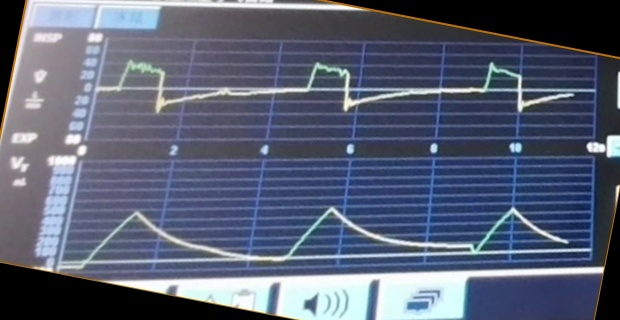Accumulation Flow: (105, 50, 575, 138)
Volume: (76, 185, 583, 269)
